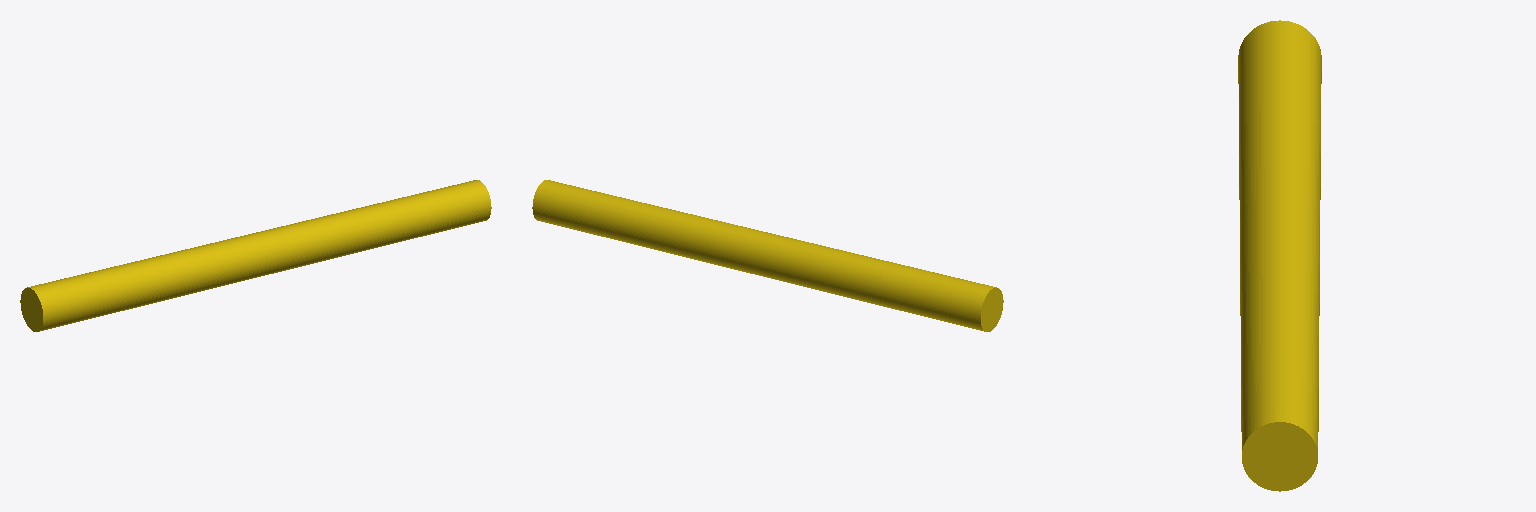
URDF robot description (cb_chopstick_t45rd125):
<?xml version="1.0"?>
<!-- ContactBench chopstick. Generated by FoundationTouch tools/contactbench/make_contactbench_assets.py -->
<robot name="cb_chopstick_t45rd125">
  <material name="c"><color rgba="0.85 0.75 0.10 1.0"/></material>
  <link name="object">
    <visual><origin xyz="0 0 0" rpy="0 0 0"/><geometry><mesh filename="chopstick.obj" scale="1 1 1"/></geometry><material name="c"/></visual>
    <collision><origin xyz="0 0 0" rpy="0 0 0"/><geometry><mesh filename="coll_00.obj" scale="1 1 1"/></geometry></collision>
    <inertial><mass value="1.504717e-03"/><origin xyz="0 0 0" rpy="0 0 0"/><inertia ixx="6.650716e-09" ixy="4.380143e-14" ixz="1.253599e-25" iyy="6.165453e-07" iyz="-4.178663e-26" izz="6.165453e-07"/></inertial>
  </link>
</robot>

--- Render facts (derived) ---
3 views of the same robot in one strip: view 1: azimuth 30°, elevation 25°; view 2: azimuth 150°, elevation 25°; view 3: azimuth 270°, elevation 25° (orthographic).
Robot: cb_chopstick_t45rd125 — 1 links, 0 joints (none); root link object; default pose: every joint at zero.
Visible links, largest first — view 1: object; view 2: object; view 3: object.
Boxes of the visible links, <box> form: object: <box>20,180,491,331</box>; object: <box>532,180,1003,331</box>; object: <box>1238,20,1321,491</box>.
Size in the robot's own frame: 0.07 by 0.0062 by 0.0062 metres.
Meshes: 1 distinct files referenced, 1 mesh visuals loaded (1 OBJ).
